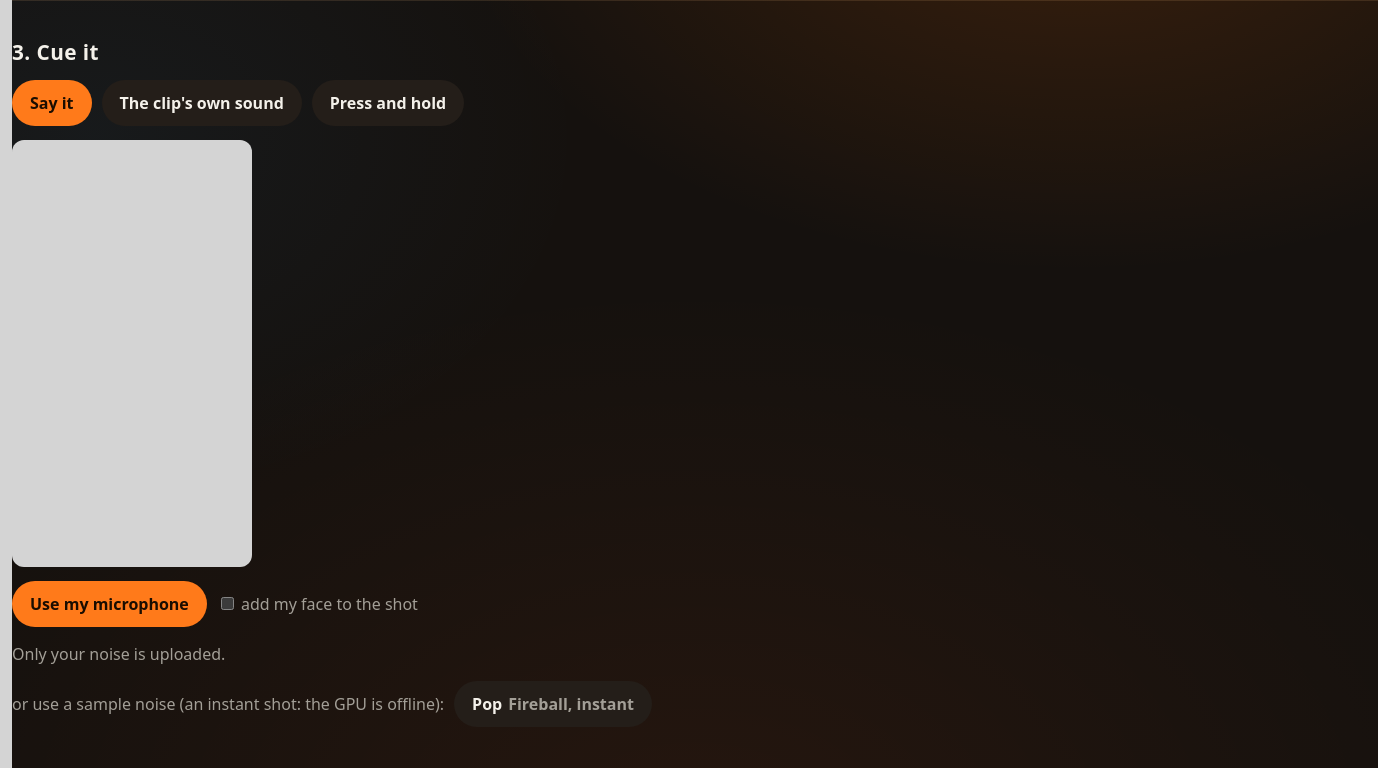
Performer microphone lifecycle › releases an armed microphone when changing cues and ignores an already queued meter tick
The image size is (1378, 768).
Click the button "Use my microphone": (109, 604) [12, 581, 207, 627]
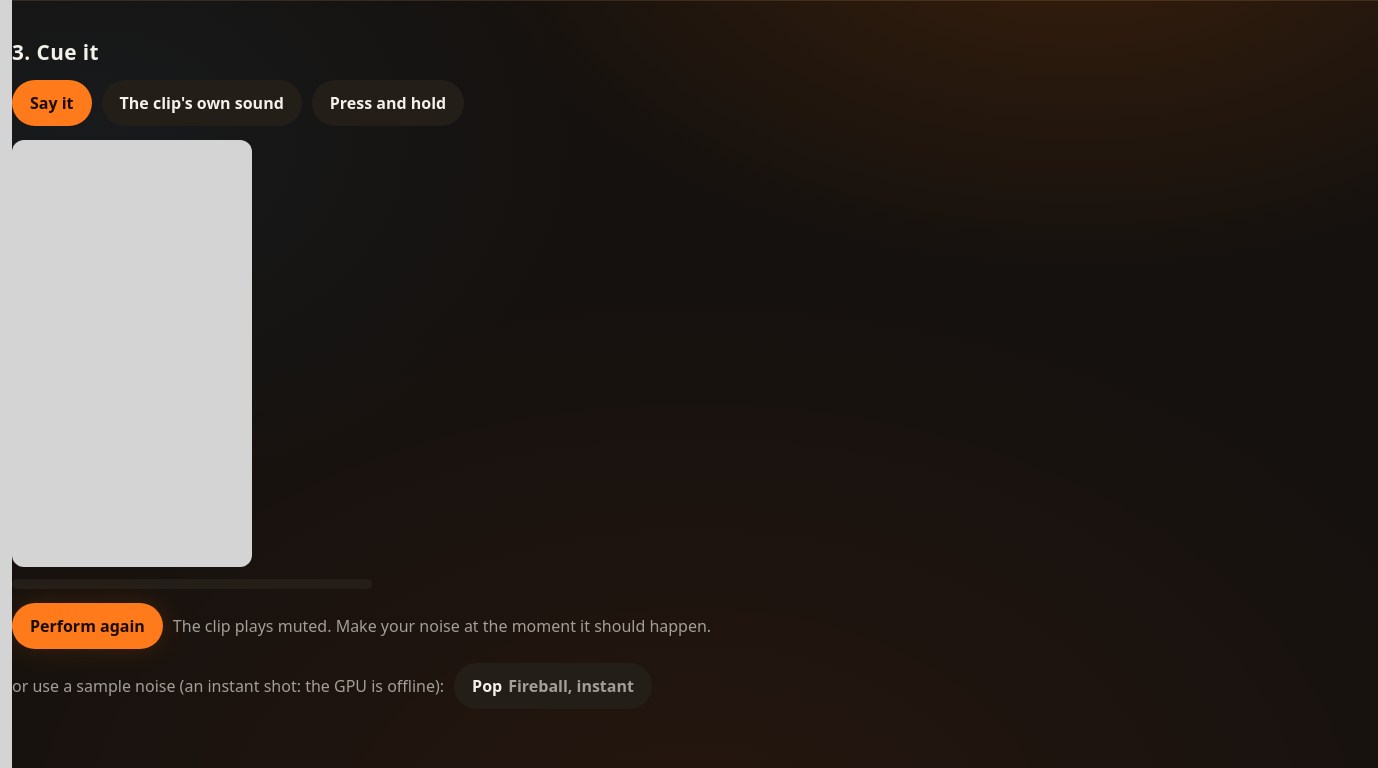
Click the radio button labelled "Press and hold": (388, 103) [312, 80, 464, 126]
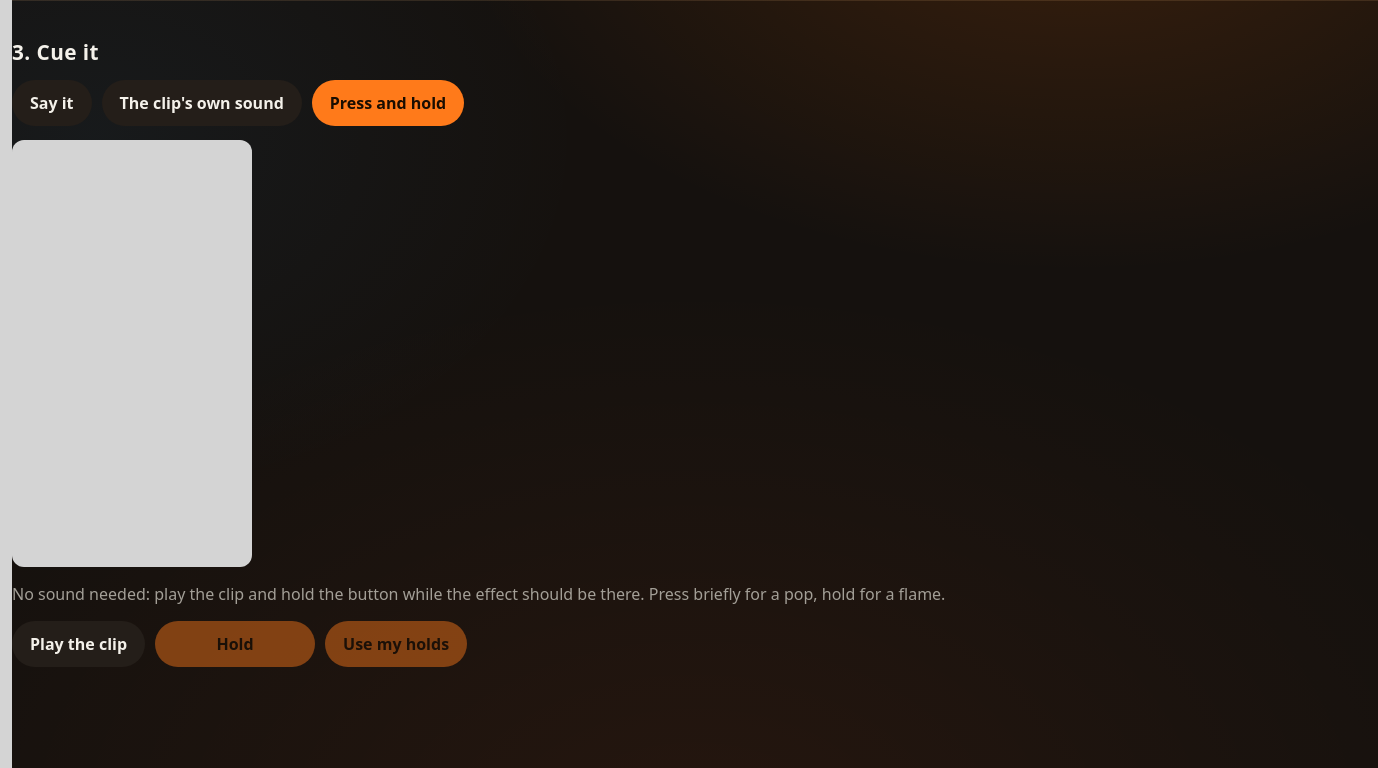
Click the radio button labelled "Say it": (52, 103) [12, 80, 92, 126]
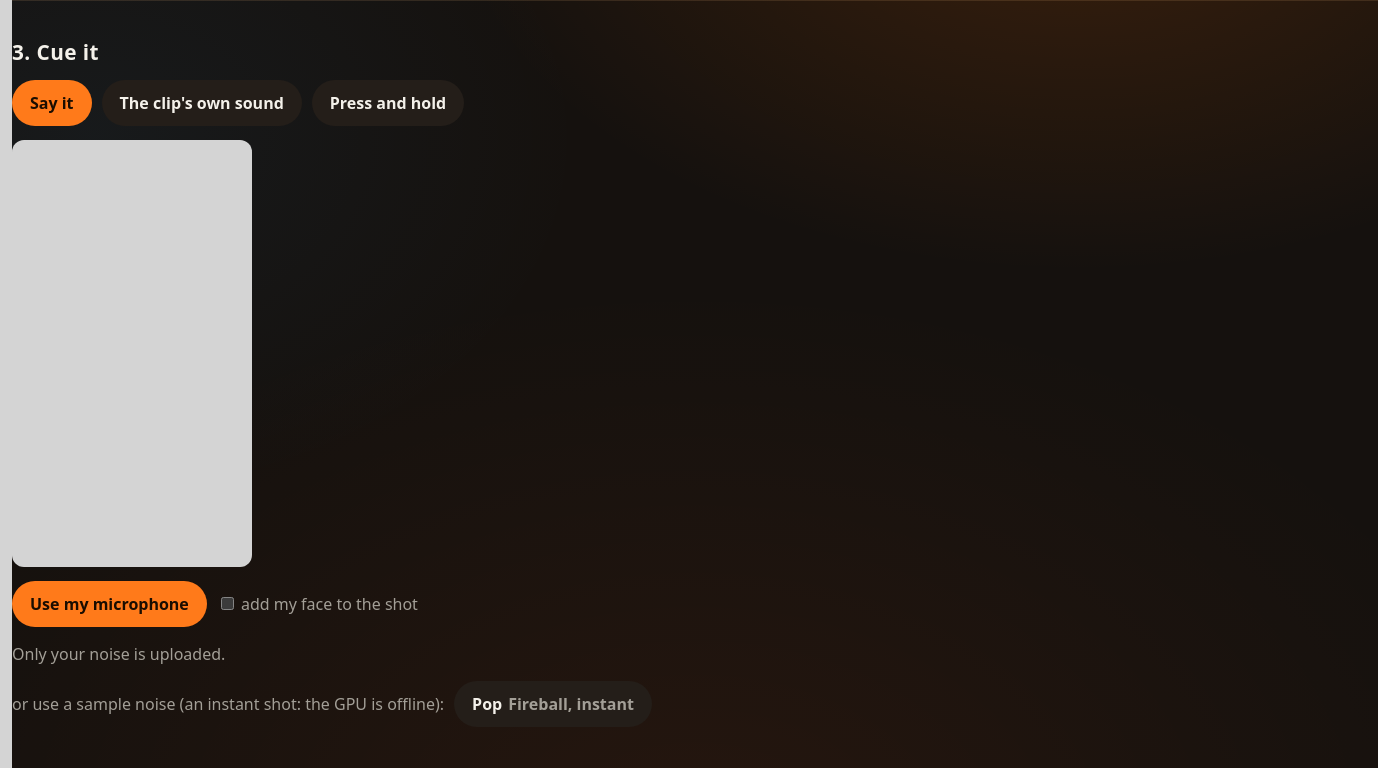
Result: the button "Use my microphone" is shown at [12, 581, 207, 627]
